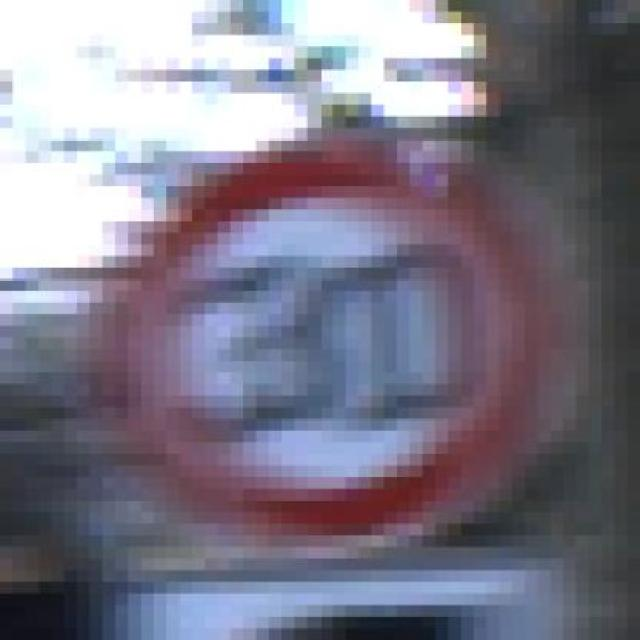Speed Limit 30 KMPh: (90, 81, 576, 558)
